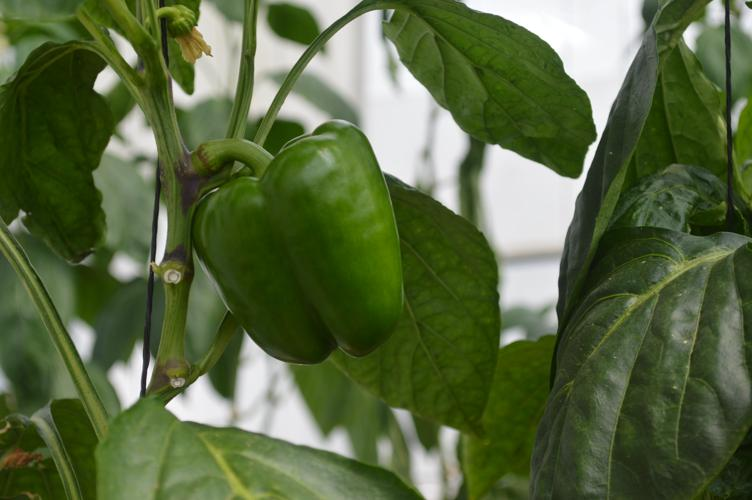BellPepper: (198, 116, 407, 360)
